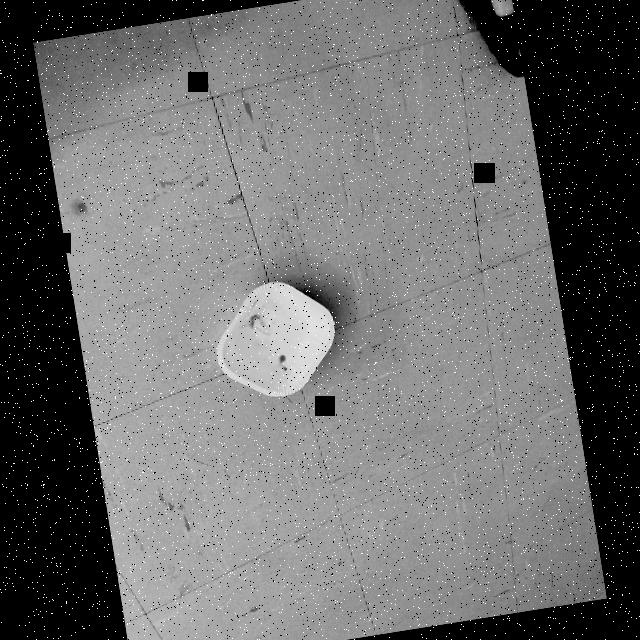cardboard_bowl: (202, 268, 351, 410)
